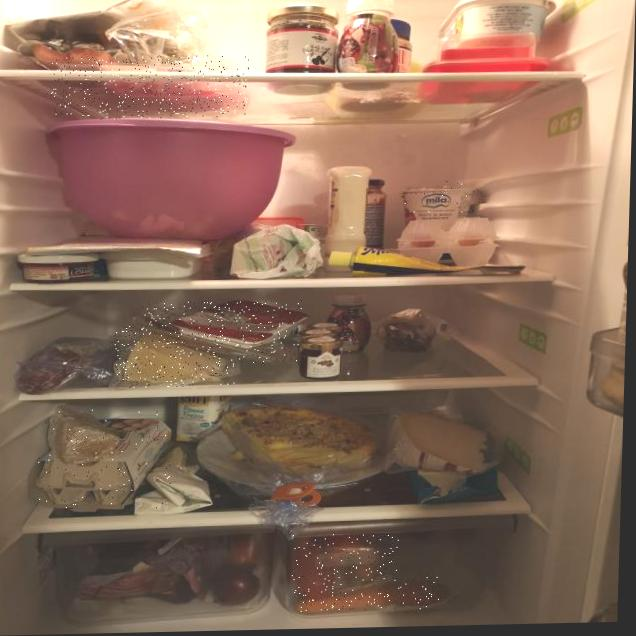carrots: (298, 577, 443, 612)
cheese: (114, 324, 237, 388), (39, 410, 123, 466)
eggs: (37, 407, 175, 512), (393, 212, 505, 268)
ham: (50, 54, 249, 121), (138, 299, 302, 366)
tomatoes: (291, 533, 399, 594)
yoghurt: (403, 180, 482, 259)
